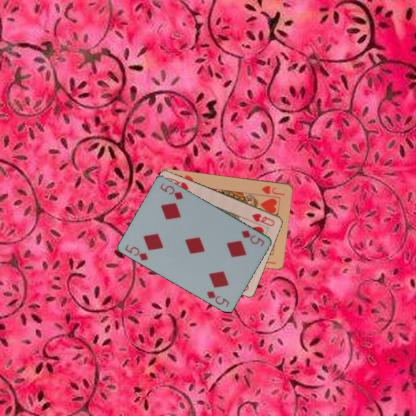5d: (238, 227, 266, 248), (122, 242, 150, 262)
Jh: (259, 183, 286, 197)
Qh: (250, 210, 276, 228)
